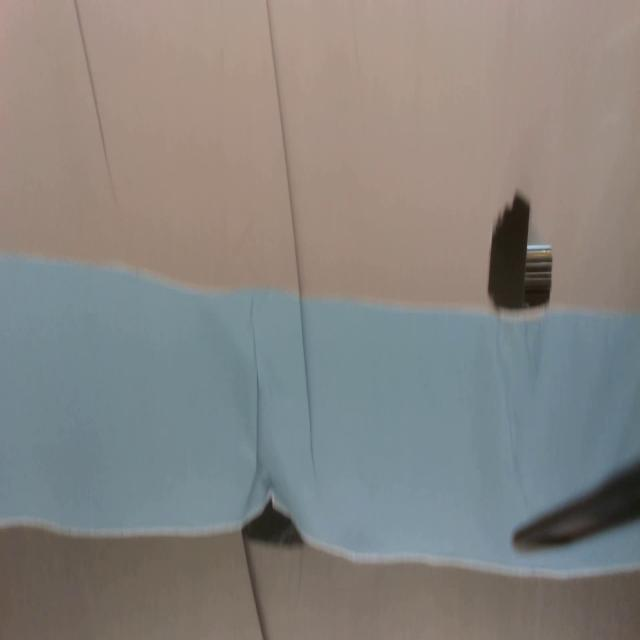crease: (262, 0, 318, 482), (70, 0, 119, 208), (247, 297, 264, 480), (241, 546, 267, 637)
hole: (486, 186, 554, 316), (241, 495, 308, 556)
